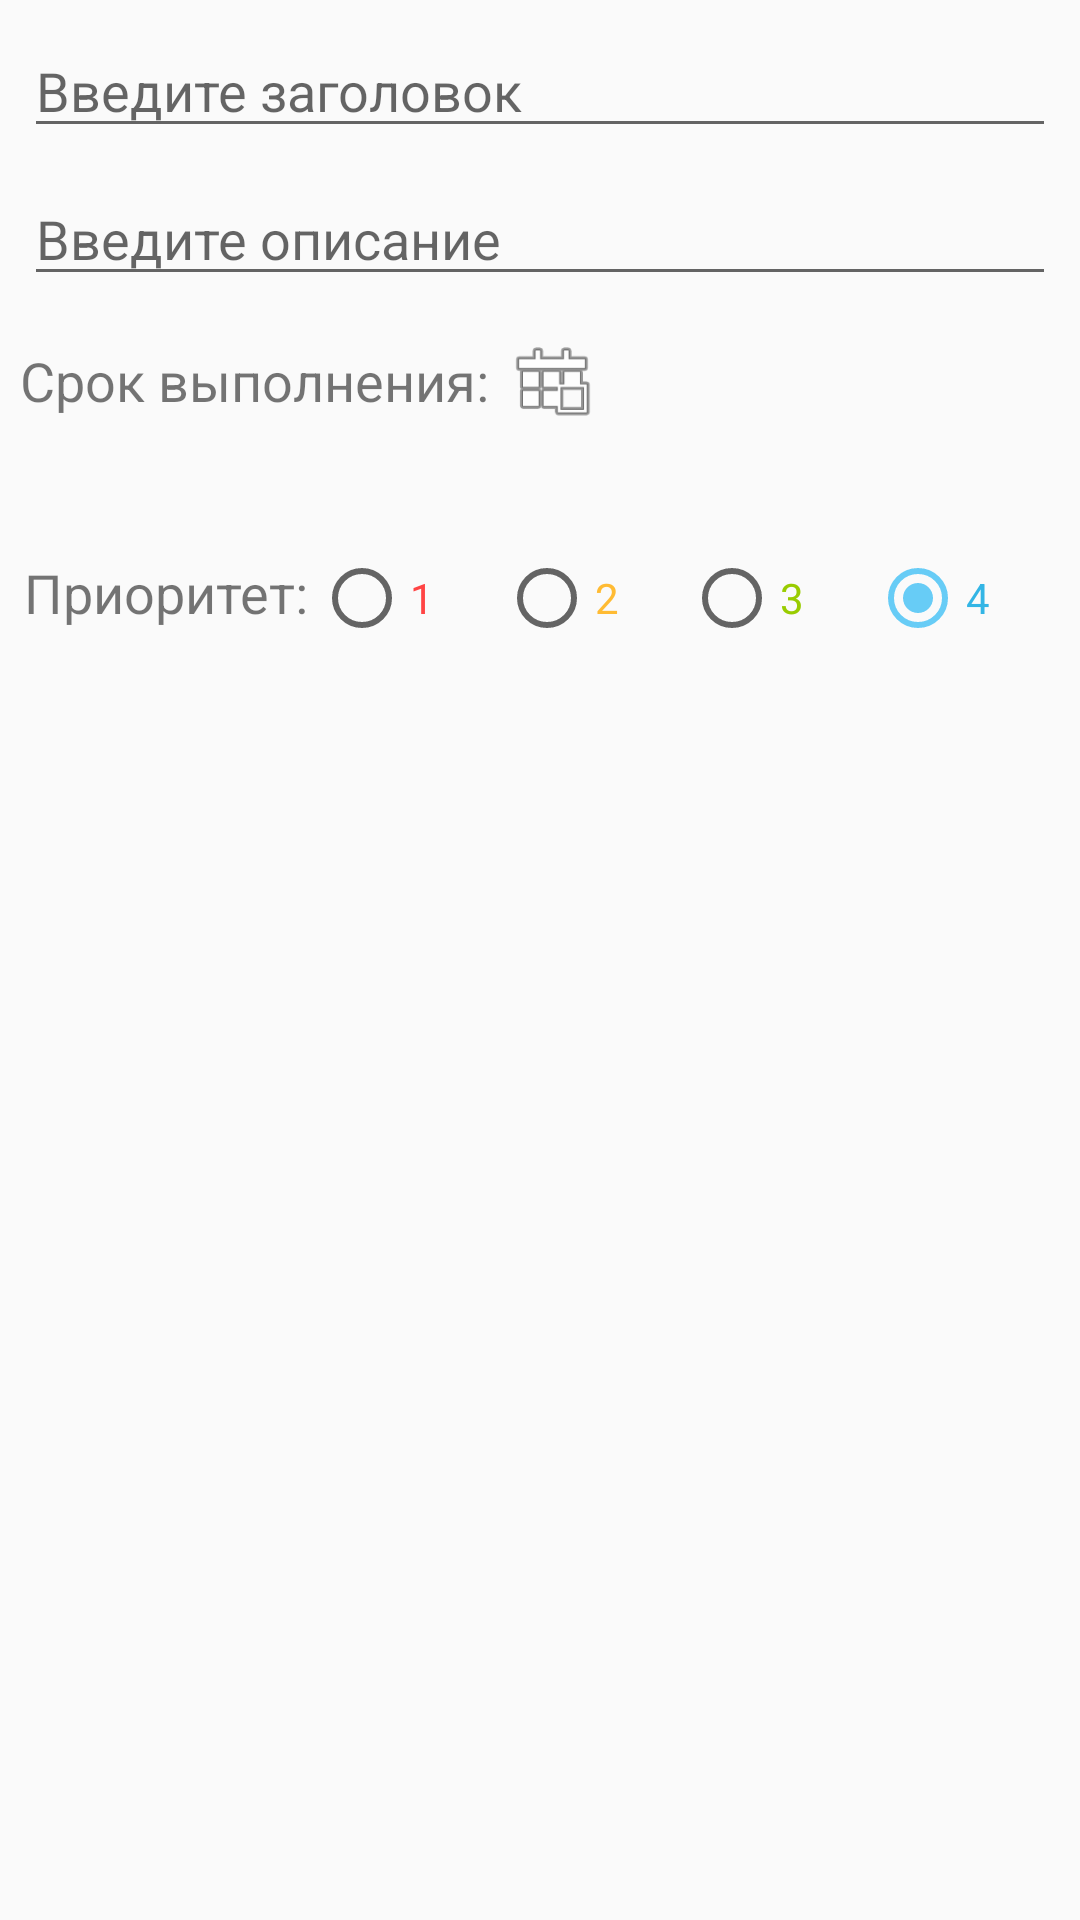

Icons on this 1080w x 1920h Android screen, each with the point to tap as (x,y):
today: (553,381)
